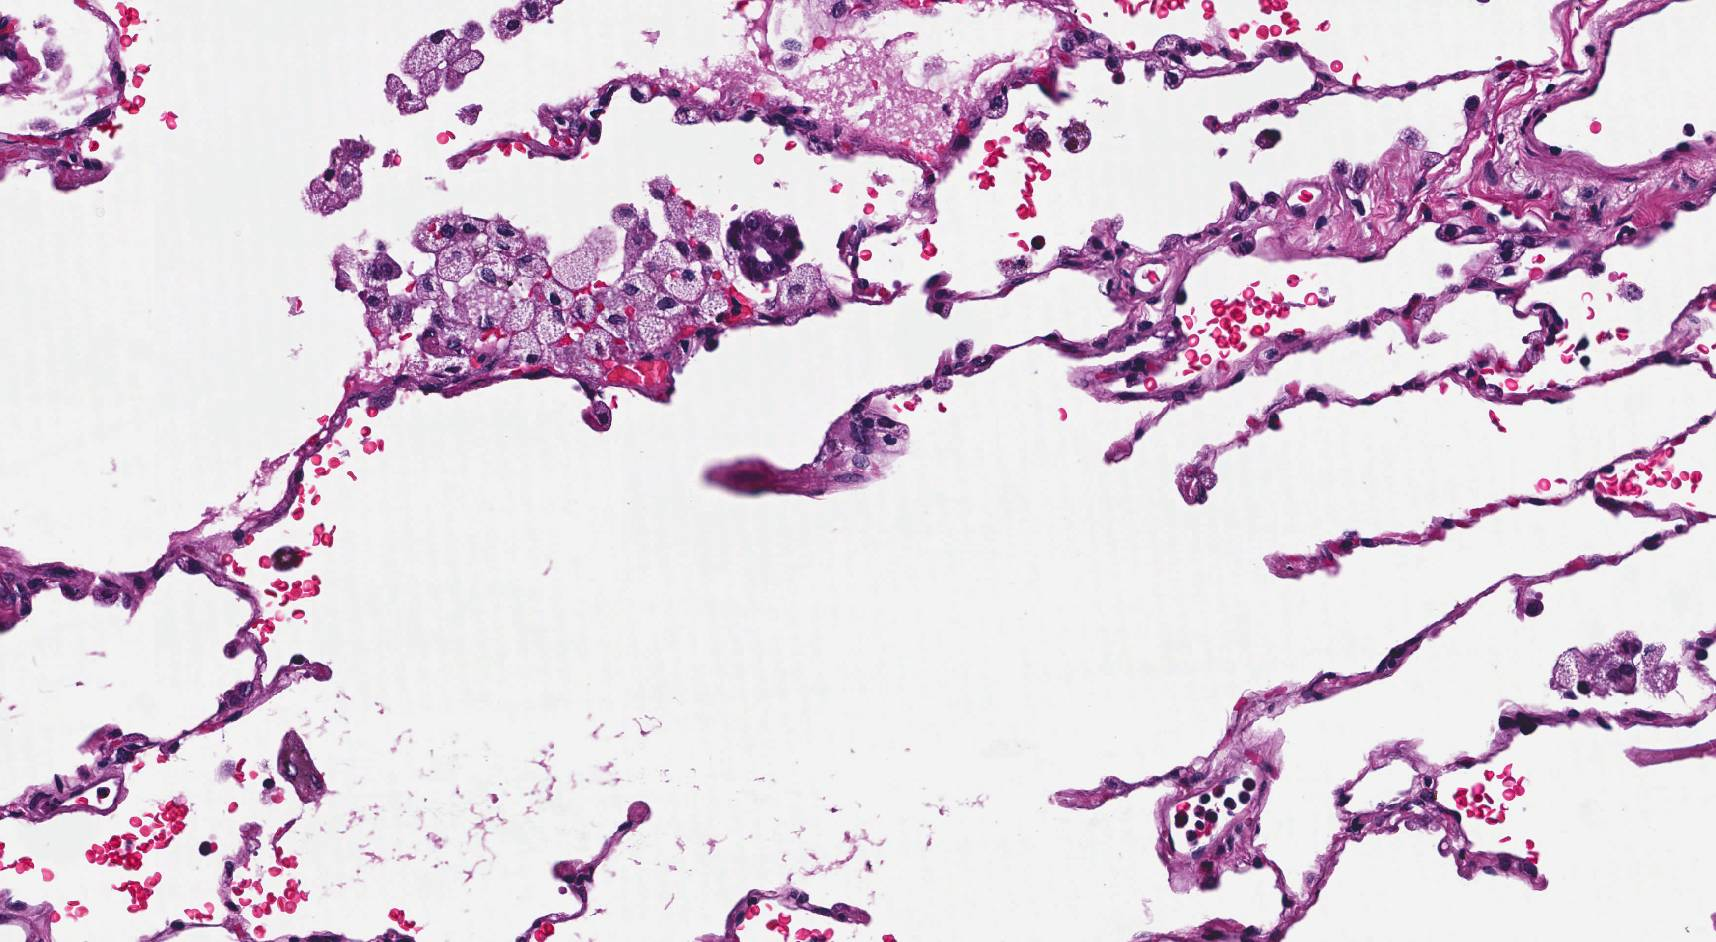stas: (725, 207, 803, 283), (276, 731, 330, 805)
